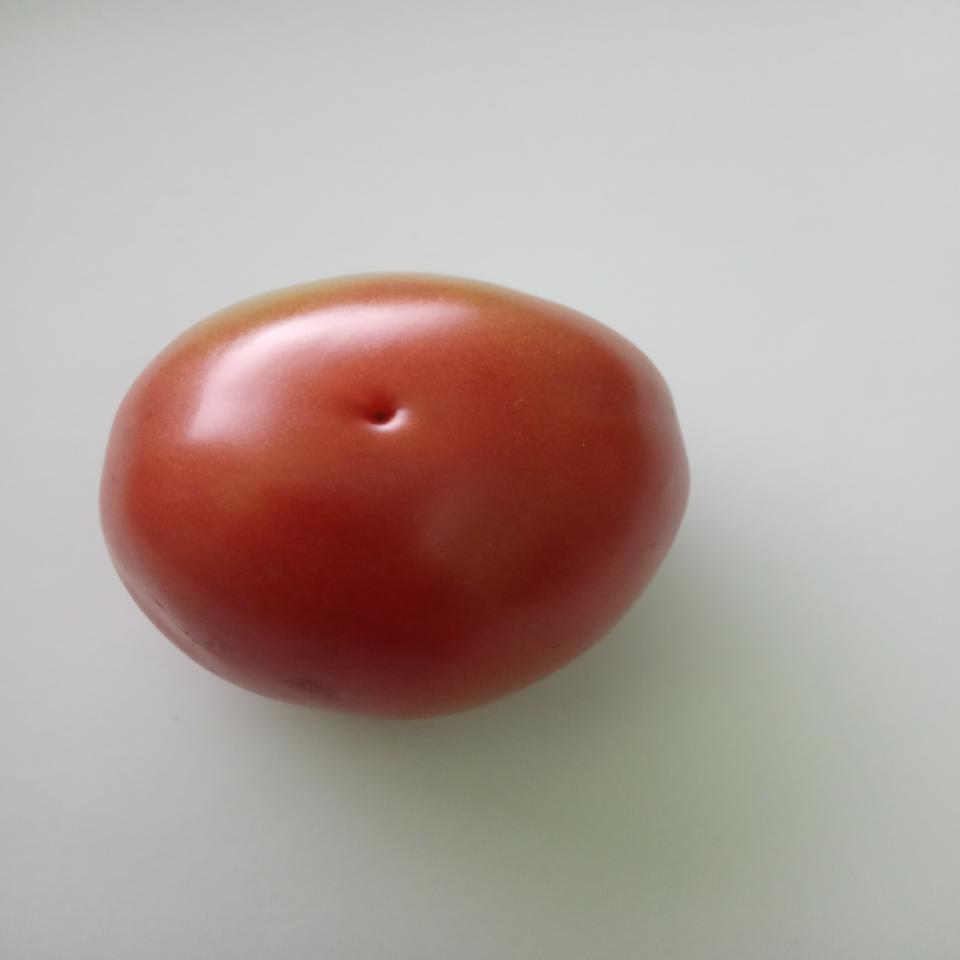Healthy: (86, 259, 696, 722)
